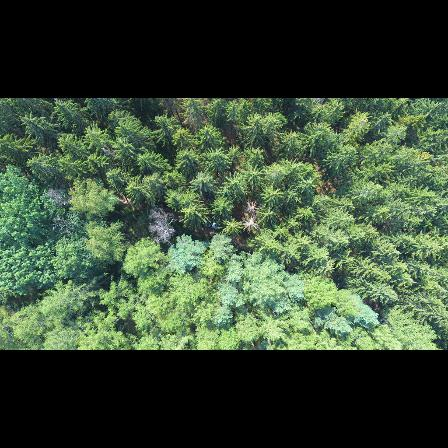Dead: (150, 210, 177, 242), (46, 189, 72, 208), (241, 217, 261, 236), (245, 197, 259, 216)
